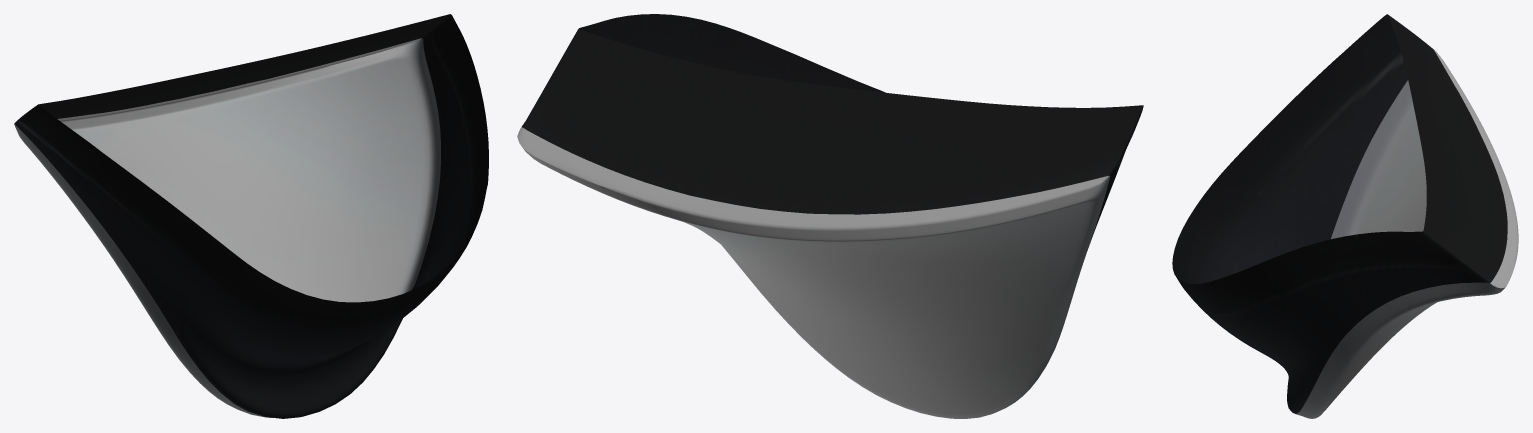
The model's file is playstation_vr2_sense_right_r2.obj.
3 views of the same model, side by side, from view 1: azimuth 30°, elevation 25°; view 2: azimuth 150°, elevation 25°; view 3: azimuth 270°, elevation 25° (orthographic). The views are drawn at different scales.
Visible parts, largest first — view 1: mesh_R2_button_R; view 2: mesh_R2_button_R; view 3: mesh_R2_button_R.
Boxes of the visible parts, x1=… form: mesh_R2_button_R: x1=14, y1=14, x2=488, y2=418; mesh_R2_button_R: x1=517, y1=14, x2=1143, y2=418; mesh_R2_button_R: x1=1172, y1=14, x2=1518, y2=418.
Bounding box in the file's own units: 0.0334 × 0.0239 × 0.0251.
1 material, 1 textured.
